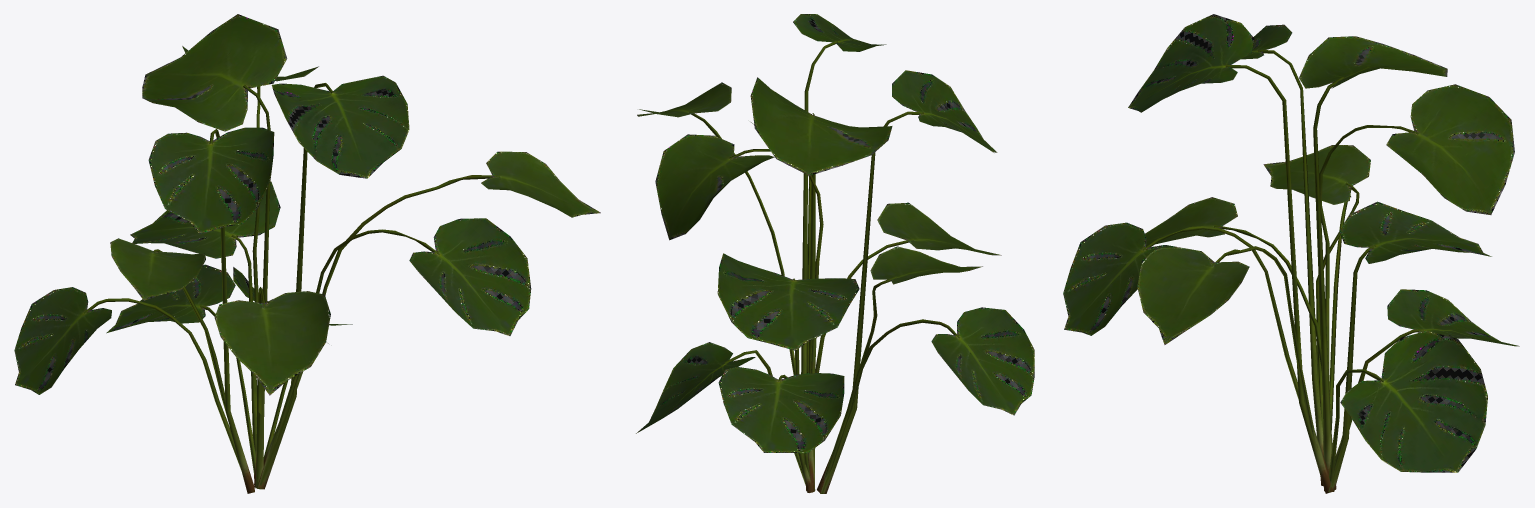
The model's file is monstera_deliciosa_s.glb.
The picture shows the model from 3 angles, left to right: view 1: azimuth 30°, elevation 25°; view 2: azimuth 150°, elevation 25°; view 3: azimuth 270°, elevation 25°; orthographic projection. The views are drawn at different scales.
Parts seen in each view (by area): view 1: LOD0; view 2: LOD0; view 3: LOD0.
Part boxes in pixels (x1=…): LOD0: x1=14, y1=14, x2=600, y2=493; LOD0: x1=636, y1=14, x2=1034, y2=493; LOD0: x1=1063, y1=14, x2=1519, y2=493.
Size of the model in its own units: 1.74 by 1.52 by 1.38.
Materials: 1 (1 with a texture image).
